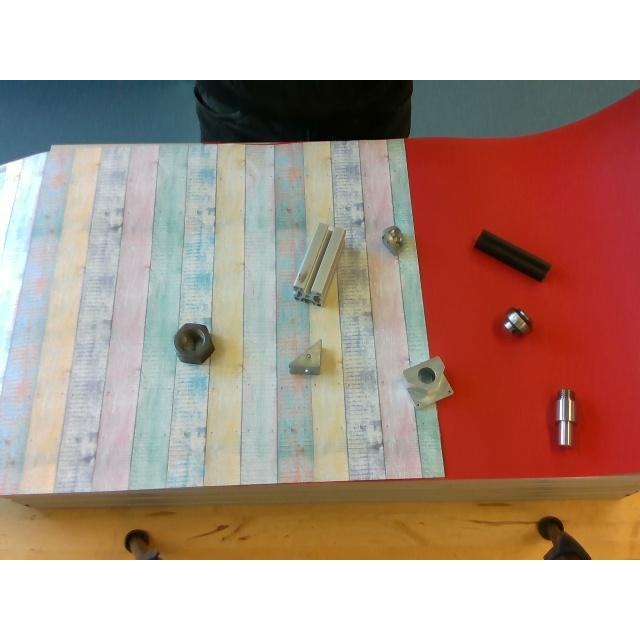Axis2: (556, 388, 574, 444)
Bearing2: (505, 307, 531, 337)
F20_20_B: (473, 230, 551, 280)
M30: (174, 323, 214, 363)
S40_40_G: (292, 223, 344, 304)
